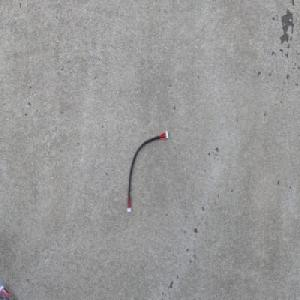Wire: (126, 129, 169, 213)
